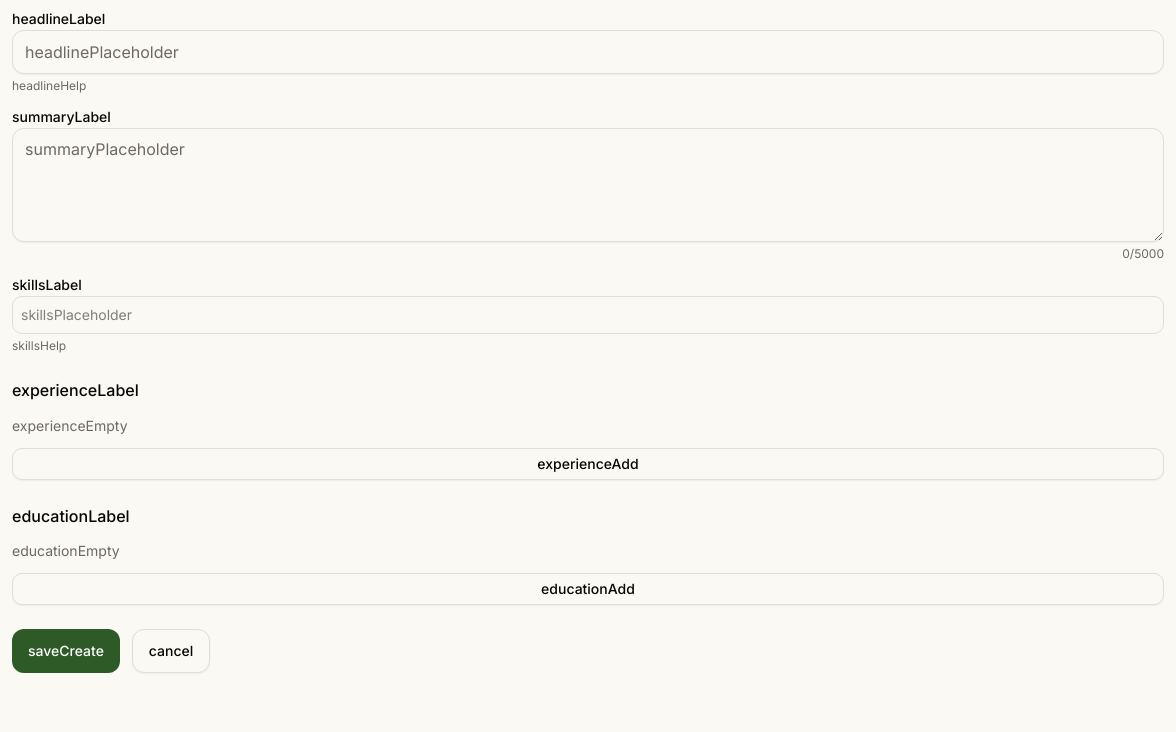
Test: SeekerProfileForm › add skill via Enter appends chip
In the field labelled "skillsLabel": (588, 315) [21,305,1155,325], type "TypeScript"
Then press Enter
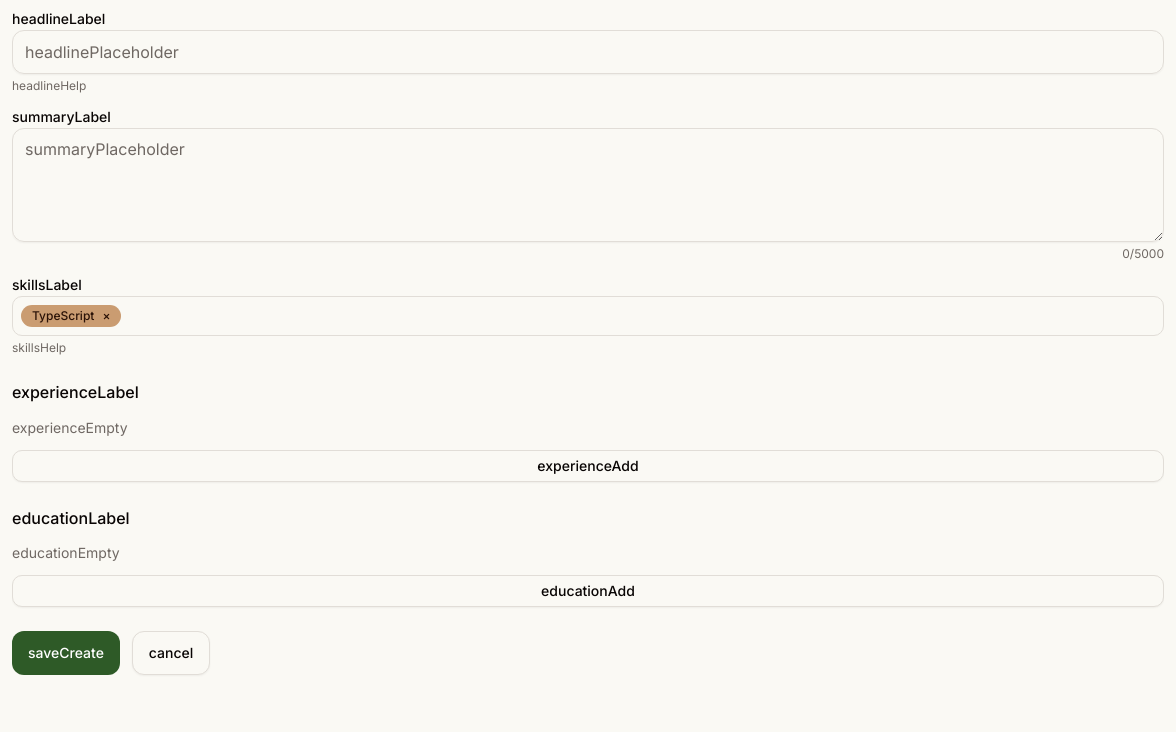
Check: the text "TypeScript" is shown, box [32,308,94,323]
